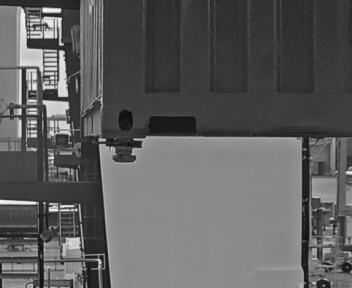twist_lock_1: (101, 131, 148, 171)
